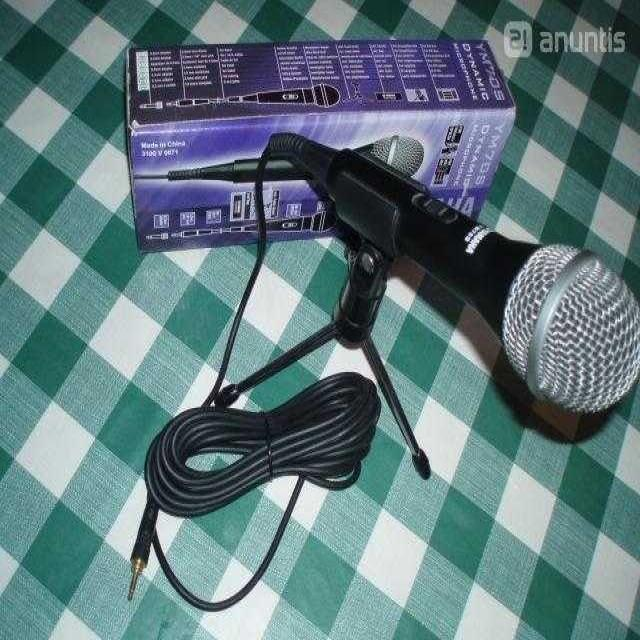microphone: (187, 126, 639, 421)
